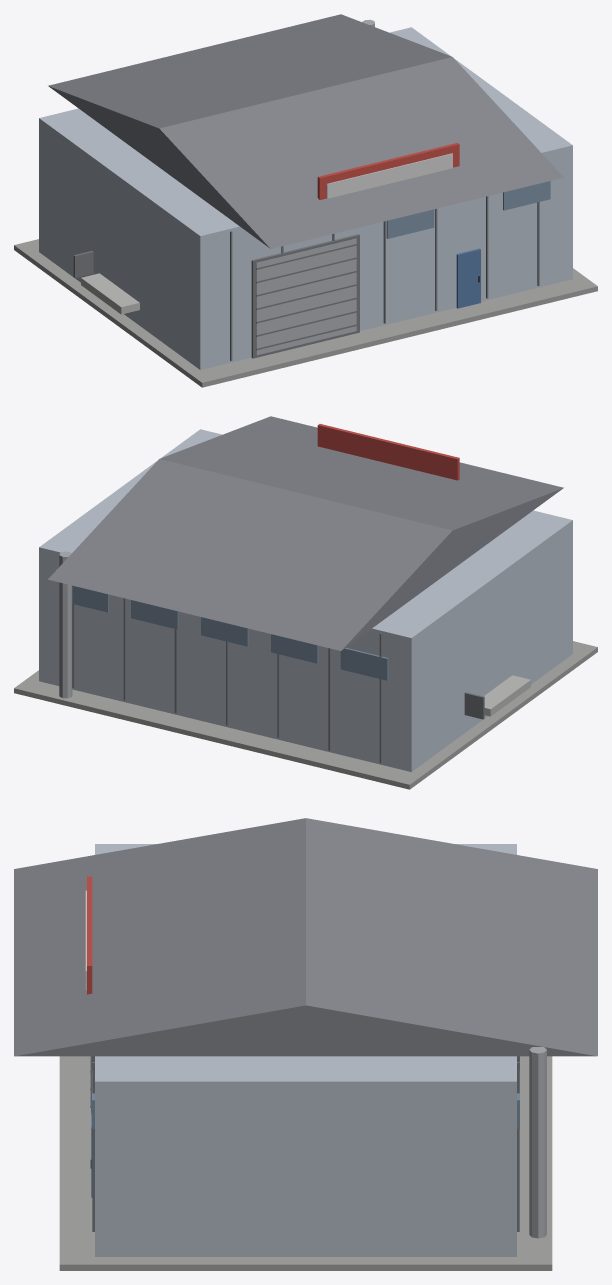
The model's file is Depo_Mavi.glb.
The picture shows the model from 3 angles, top to bottom: view 1: azimuth 30°, elevation 25°; view 2: azimuth 150°, elevation 25°; view 3: azimuth 270°, elevation 25°; orthographic projection. The views are drawn at different scales.
Parts seen in each view (by area): view 1: Depo_Mavi; view 2: Depo_Mavi; view 3: Depo_Mavi.
Boxes of the visible parts, box(x1,y1,x2,y2) form: Depo_Mavi: box(14, 14, 597, 387); Depo_Mavi: box(14, 416, 597, 789); Depo_Mavi: box(14, 818, 597, 1270).
Bounding box in the file's own units: 17.3 × 7.3 × 16.6.
